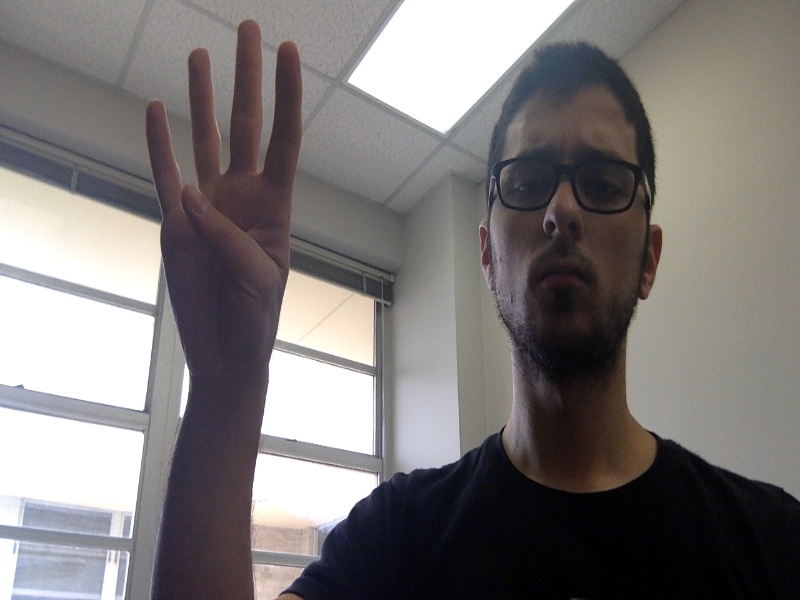4-hand: (145, 20, 300, 367)
